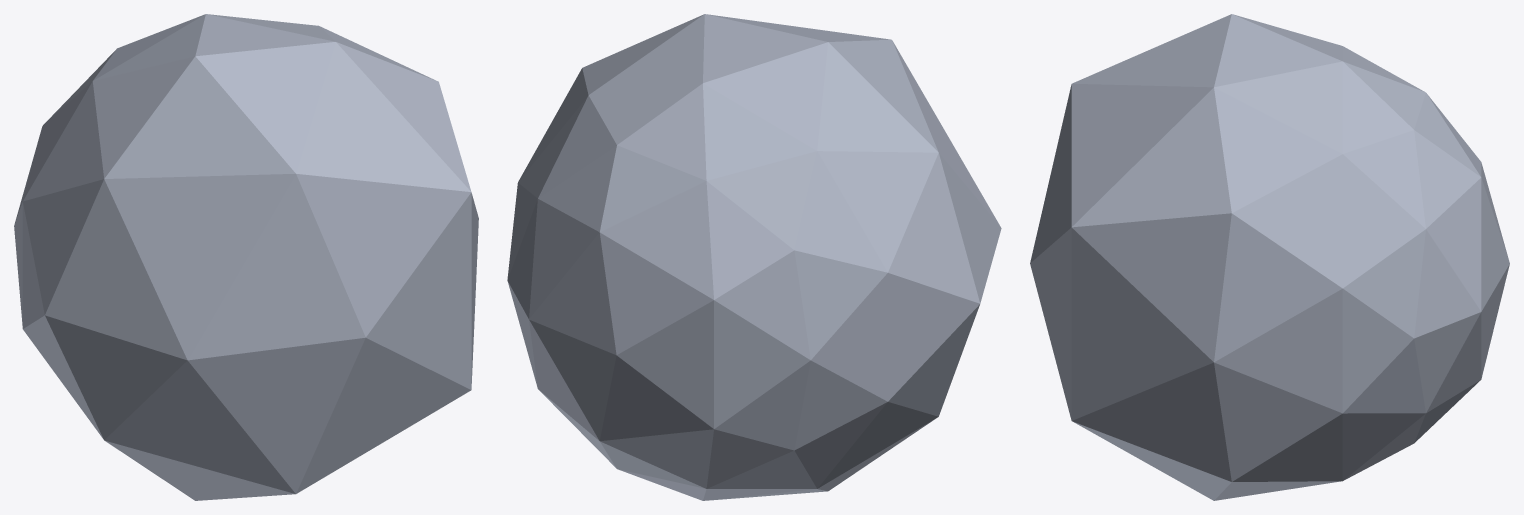
The model's file is food1.fbx.
3 renders of one model, left to right at view 1: azimuth 30°, elevation 25°; view 2: azimuth 150°, elevation 25°; view 3: azimuth 270°, elevation 25°, orthographic. The views are drawn at different scales.
Parts seen in each view (by area): view 1: Icosphere; view 2: Icosphere; view 3: Icosphere.
Part boxes in pixels (left/top/right/bottom): Icosphere: left=14, top=14, right=478, bottom=500; Icosphere: left=507, top=14, right=1001, bottom=500; Icosphere: left=1030, top=14, right=1509, bottom=500.
Size of the model in its own units: 10 by 10 by 10.
